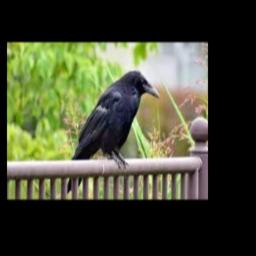Crow: (66, 70, 160, 194)
